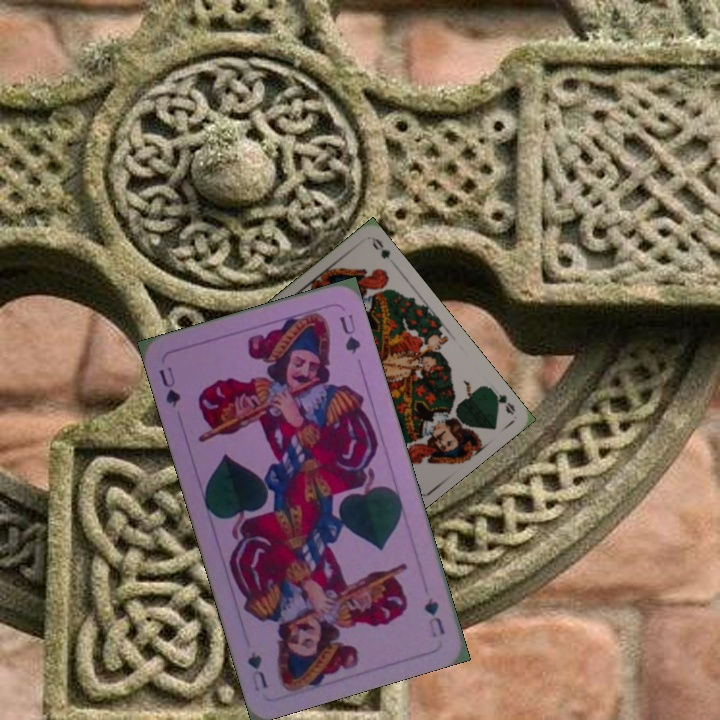GO: (486, 384, 518, 417)
GU: (155, 362, 184, 410), (420, 594, 448, 640)
